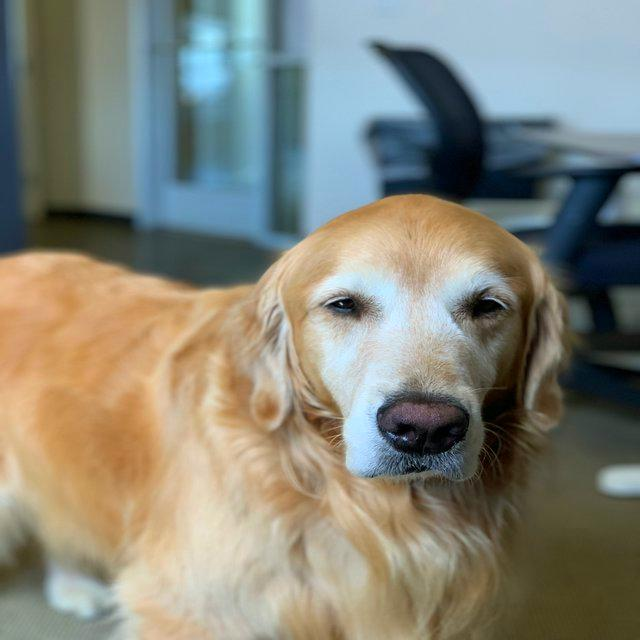retriever: (2, 191, 575, 638)
